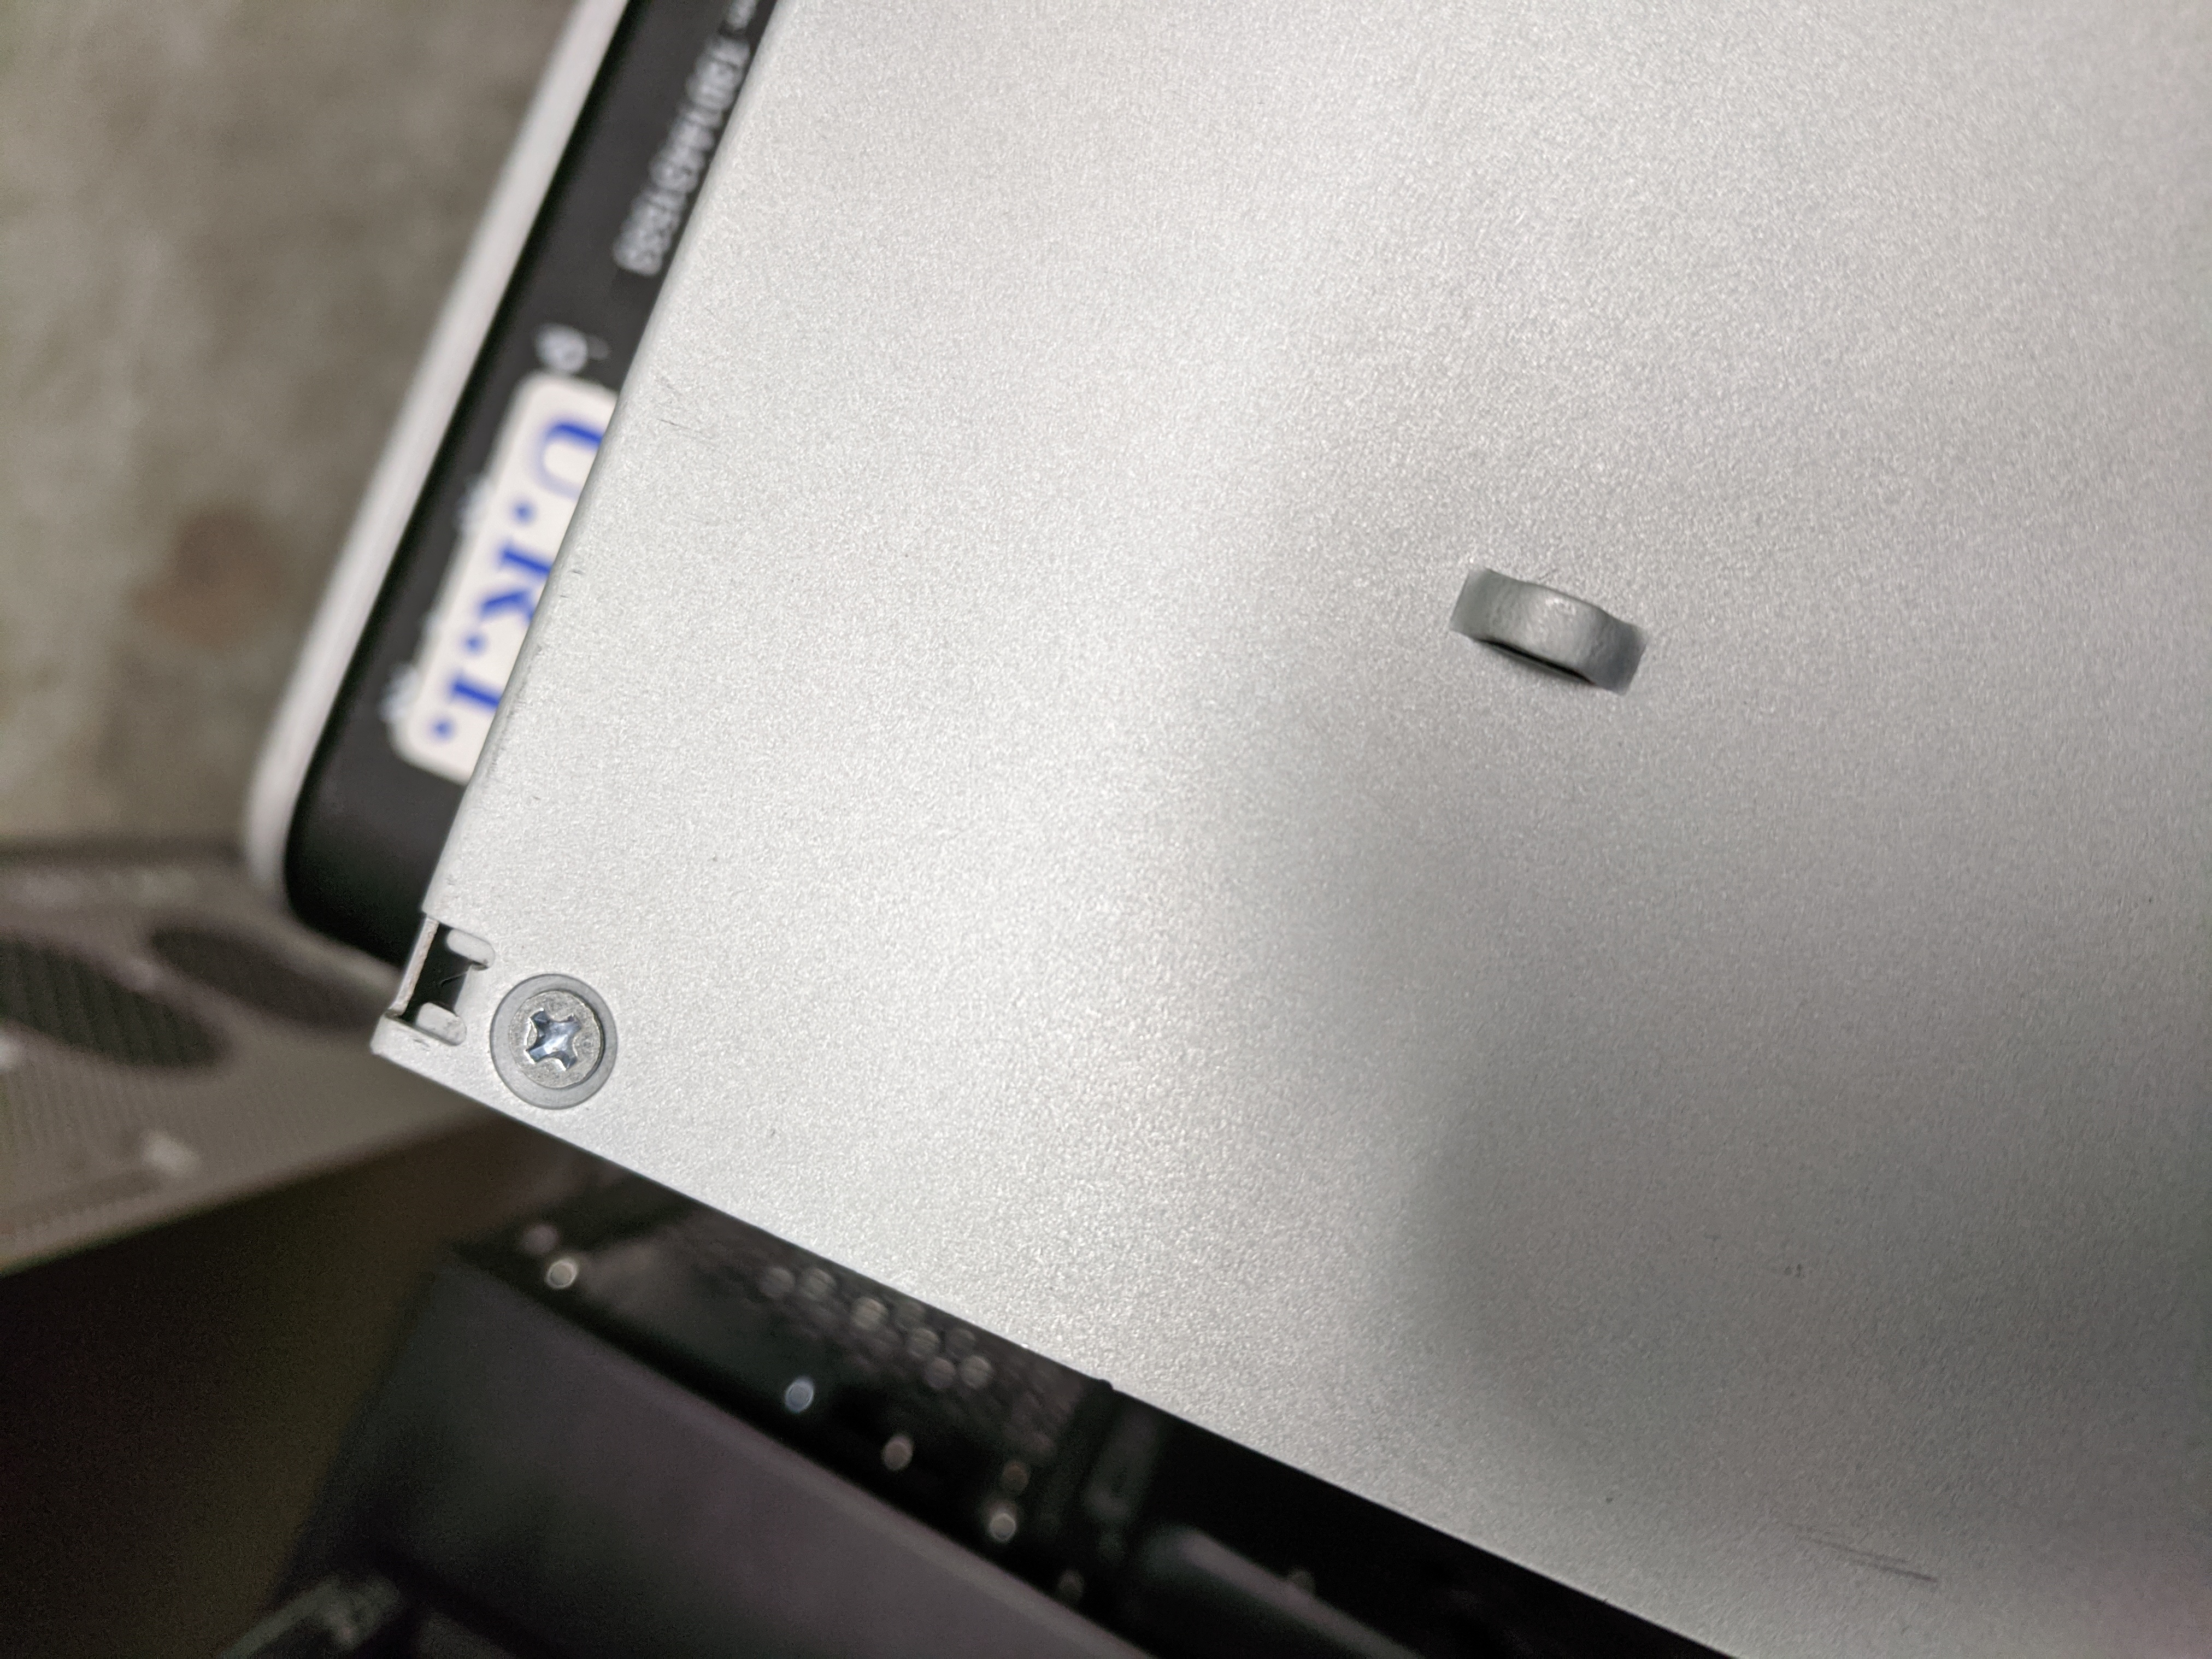cross_recessed_screw: (491, 978, 608, 1093)
